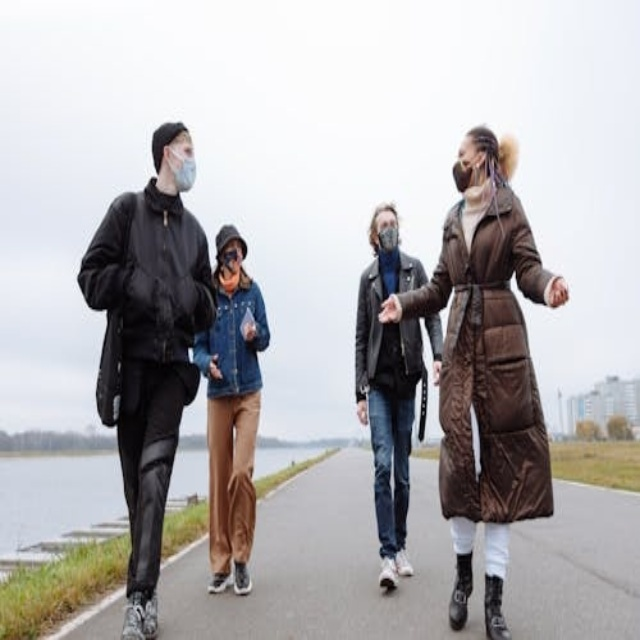Mascara: (168, 154, 200, 188), (448, 158, 477, 194), (219, 240, 246, 275), (374, 223, 401, 248)
Sin_gafas: (174, 135, 200, 156), (375, 213, 401, 233), (452, 140, 477, 160)
Sin_guantes: (541, 273, 575, 315), (374, 288, 402, 329), (355, 394, 369, 425)
